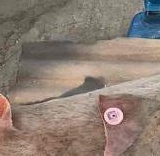text: (97, 100, 132, 134)
